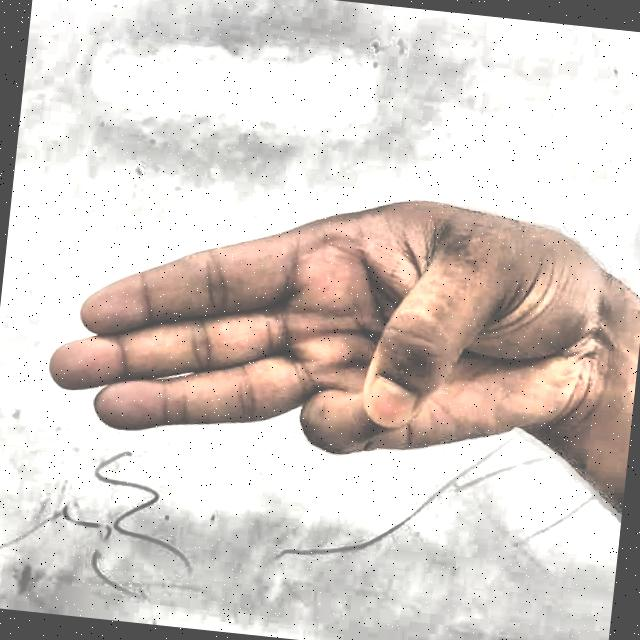Ma: (14, 156, 633, 545)
